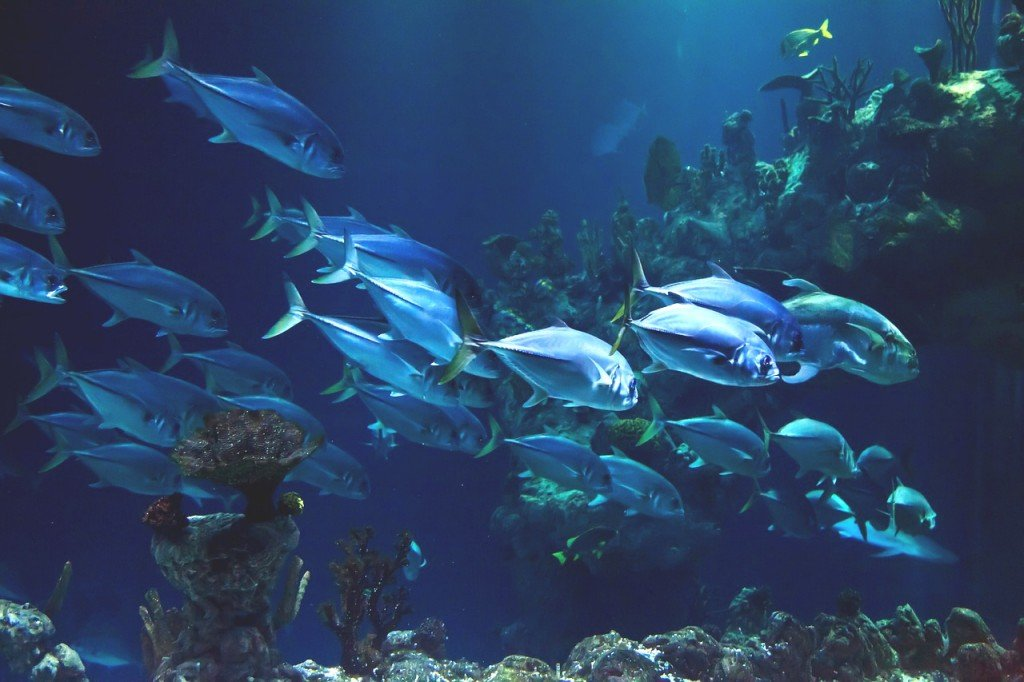fish: (117, 25, 356, 197), (253, 274, 468, 412), (438, 301, 652, 431), (50, 234, 232, 350), (596, 289, 780, 391), (470, 417, 646, 512), (777, 278, 914, 387), (647, 402, 786, 480)
